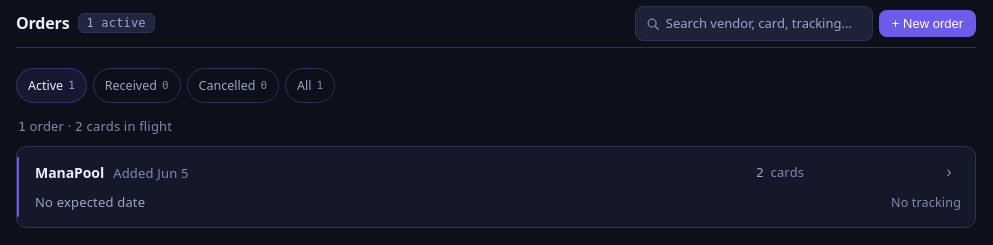
Test: OrdersPage — list, filters and summary › empty received tab
Click the button "Received 0": (137,86) [93,68,181,103]
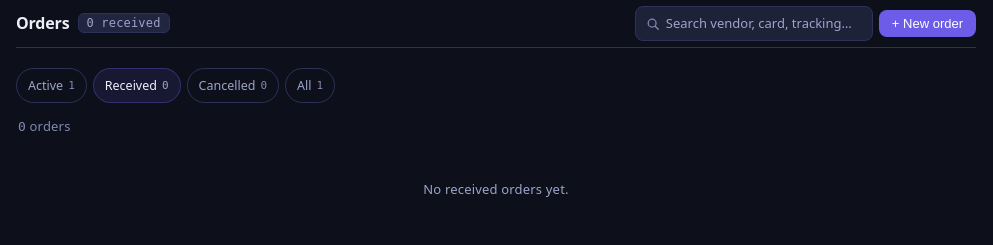
Expected: the text "No received orders yet." is shown, [423,180,569,198]
